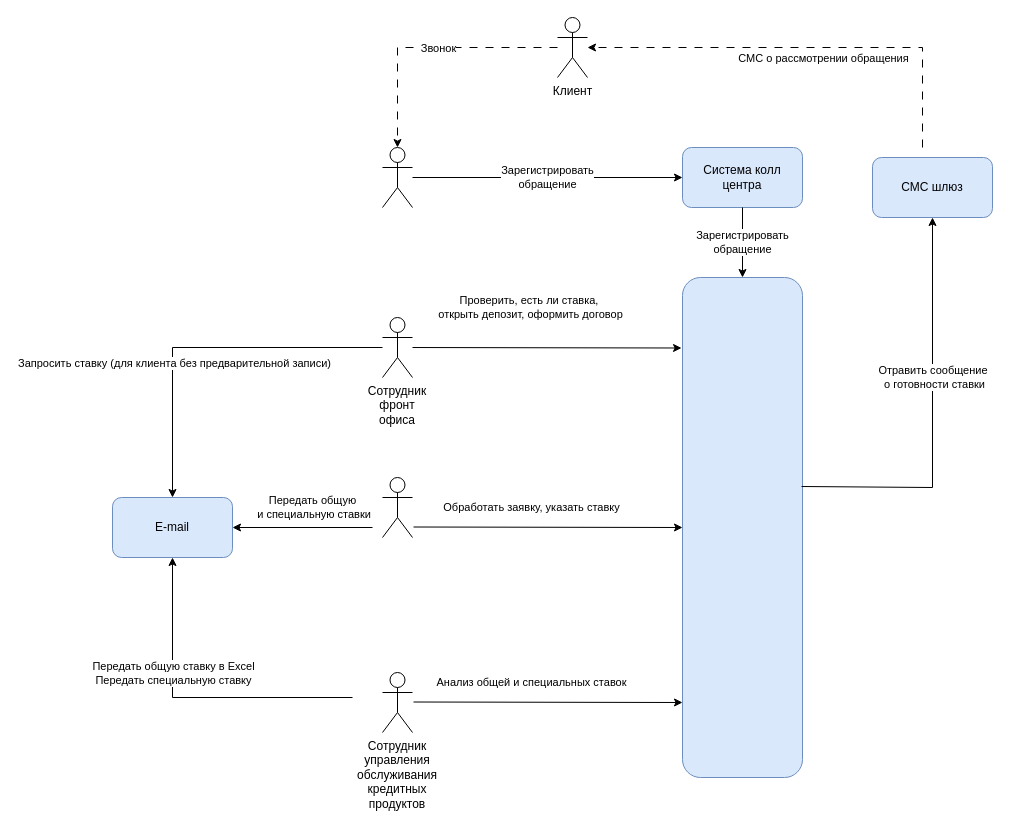
Some shapes in this 1010 by 829 pixel diagram are drawn without their labels. Here are the shapes that lost their labels. From the top down, the centre of each, then its label:
At (397,177): "Сотрудник колл-центра".
At (397,507): "Сотрудник управления обслуживания депозитных продуктов".
At (742,527): "АБС".
